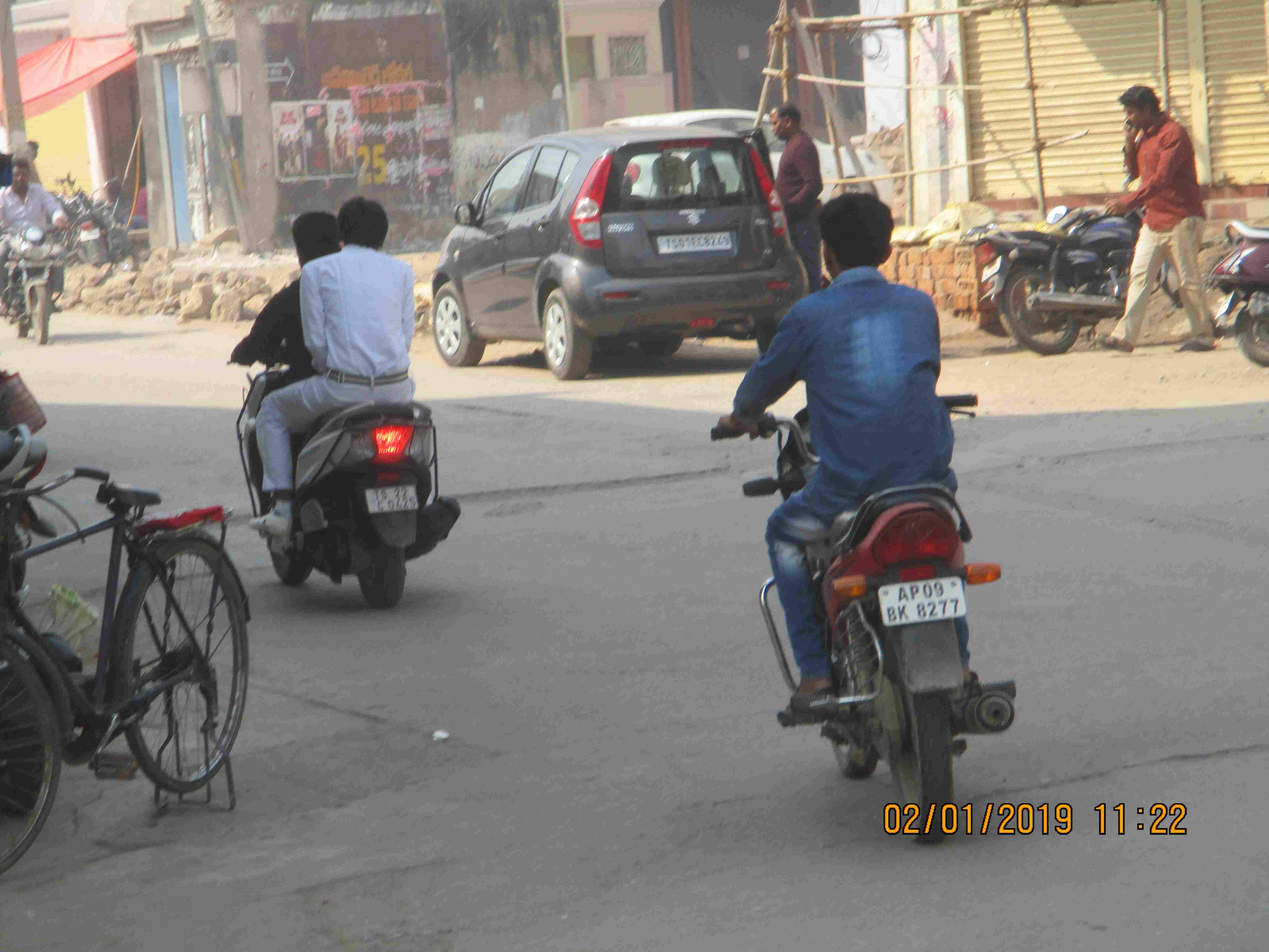plate: (868, 567, 983, 632)
